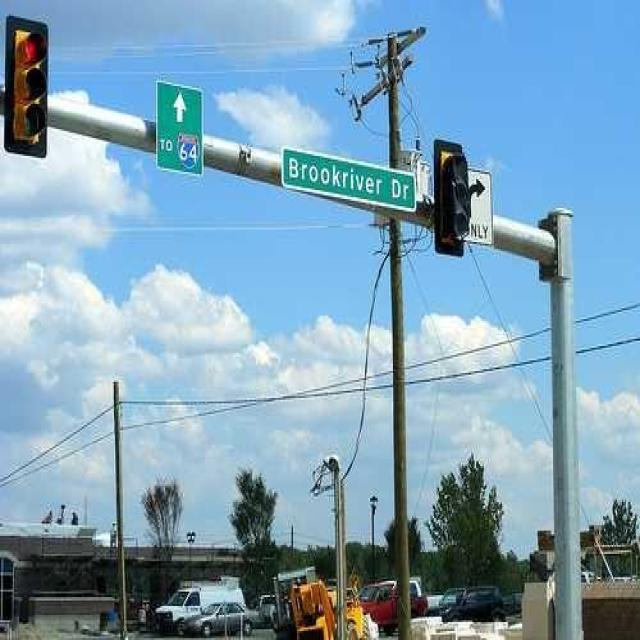Traffic Light -Red-: (5, 3, 53, 161)
